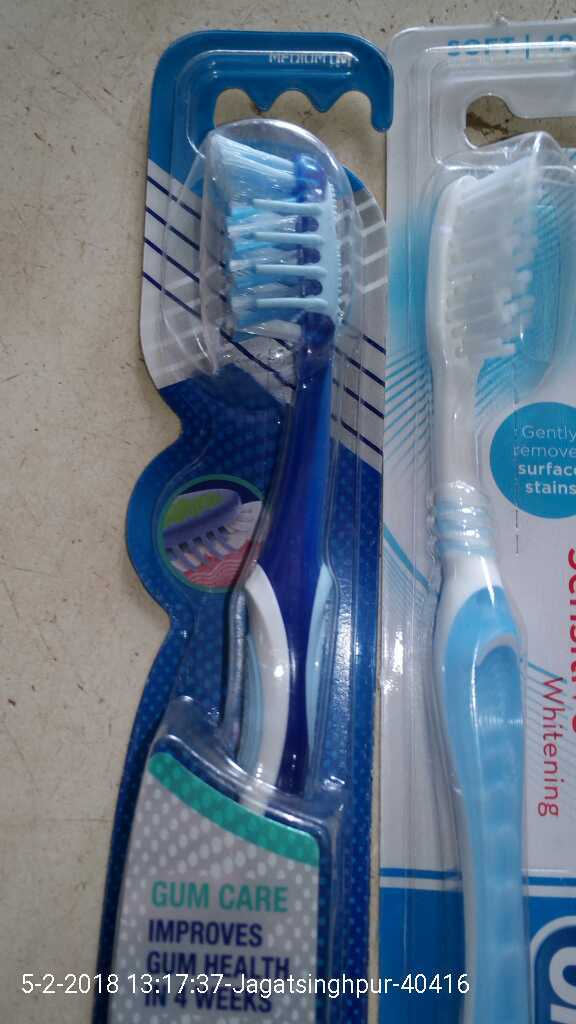oralb: (108, 29, 375, 1024), (392, 27, 576, 1014)
